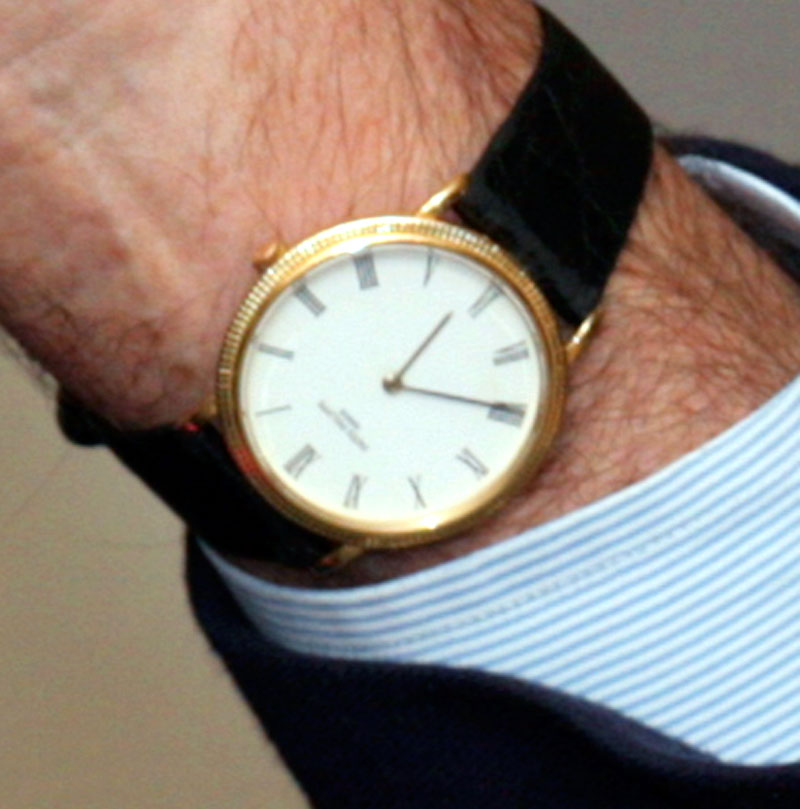clock: (239, 242, 549, 529)
